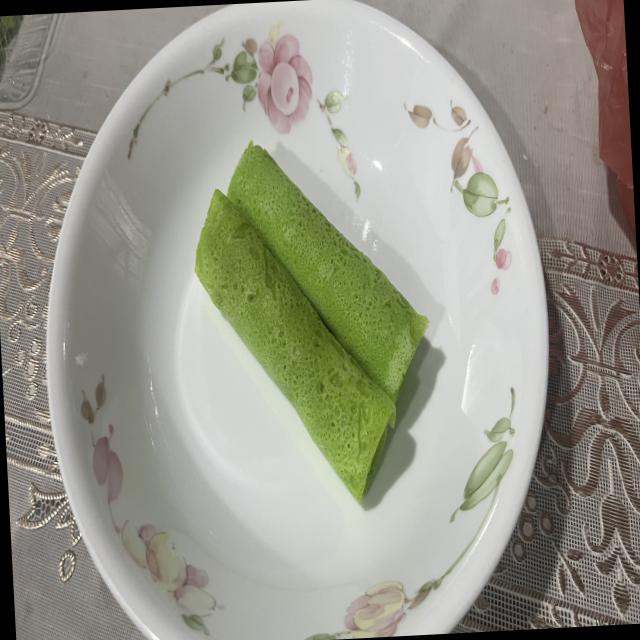Kuih-Ketayap: (195, 190, 395, 501), (228, 141, 429, 401)
